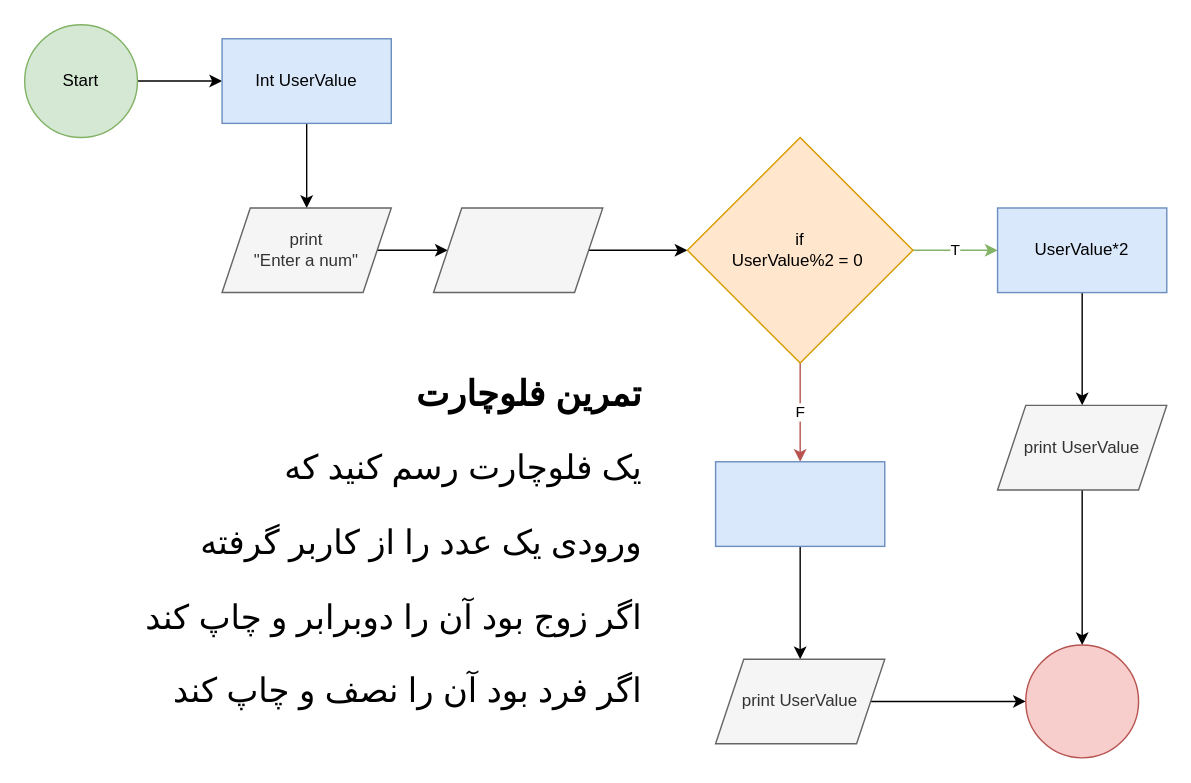
Image size: 1191x783. Some labels were removed from this diagram. The centre of each missing label's shape, as x and y in pixels:
End: (1081,701)
get UserValue: (517,250)
UseValue/2: (799,503)
